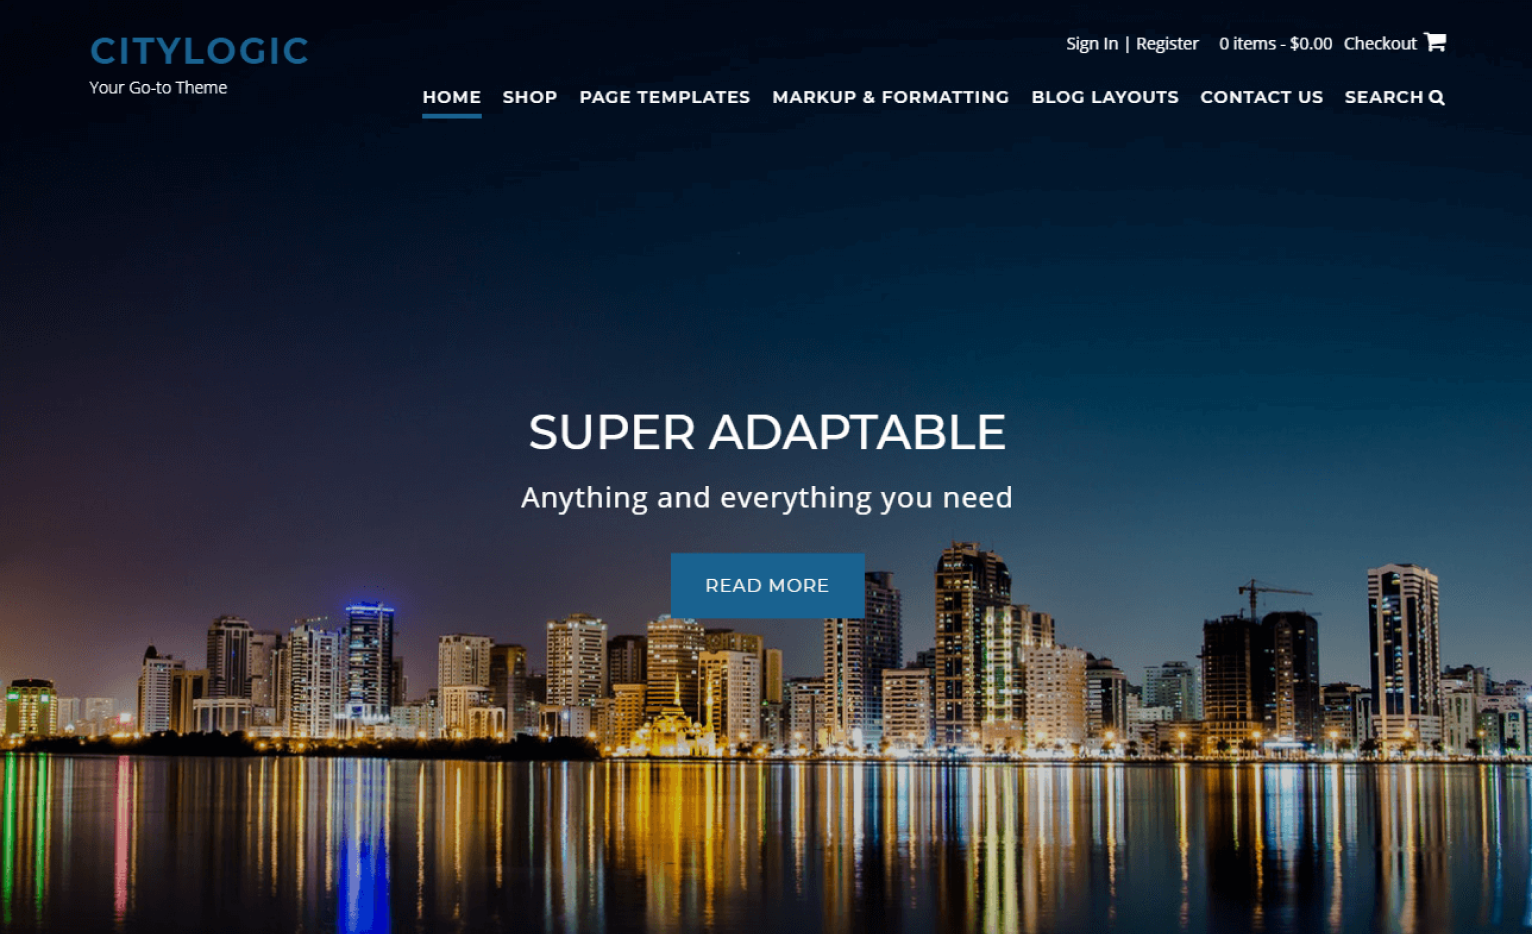menu: (40, 12, 1497, 199)
